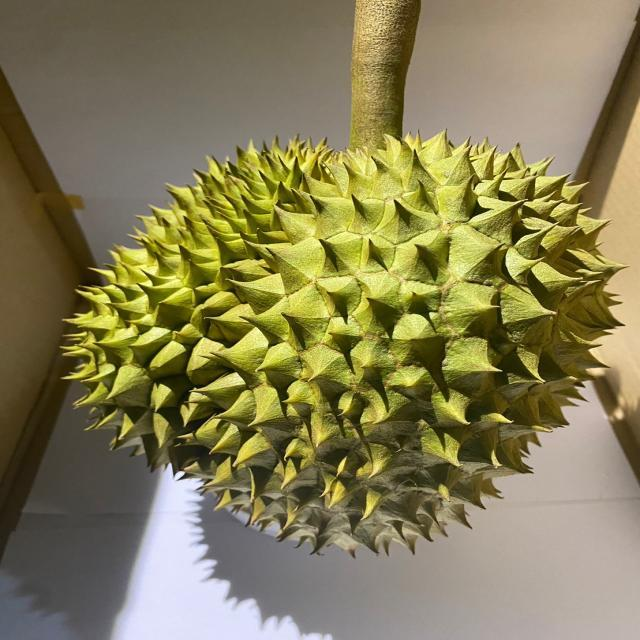immature: (57, 129, 629, 555)
